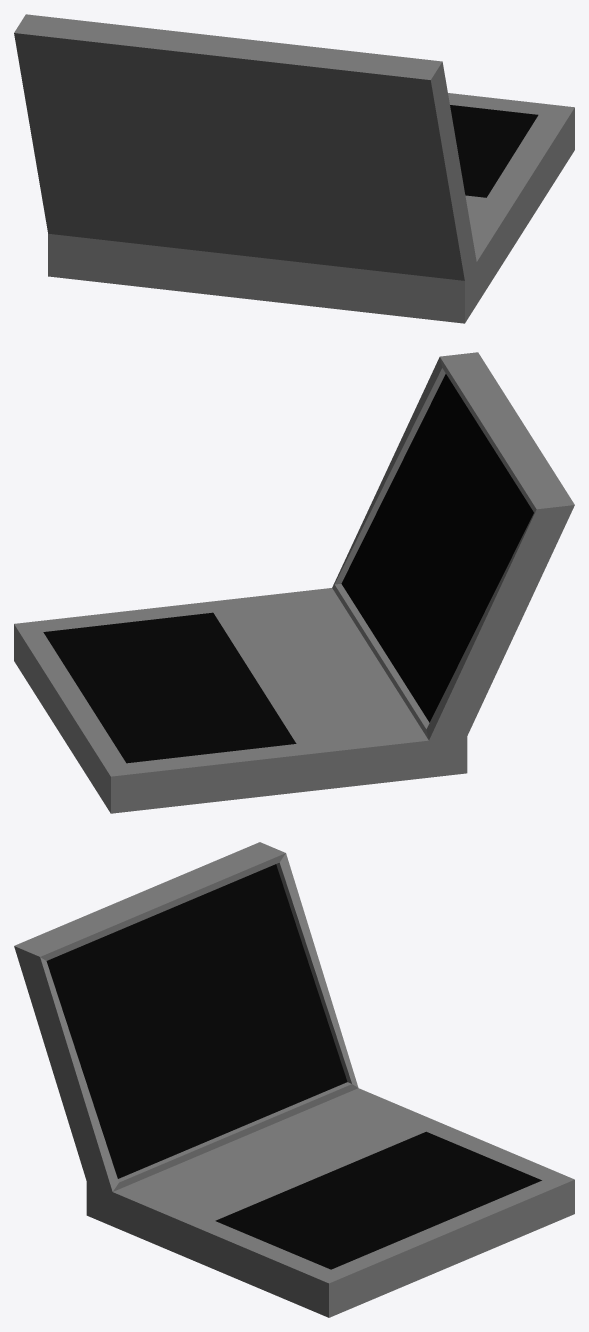
The model's file is Laptop.fbx.
The picture shows the model from 3 angles, top to bottom: view 1: azimuth 30°, elevation 25°; view 2: azimuth 150°, elevation 25°; view 3: azimuth 270°, elevation 25°; orthographic projection. The views are drawn at different scales.
Visible parts, largest first — view 1: Laptop; view 2: Laptop; view 3: Laptop.
Boxes of the visible parts, <box> form: Laptop: <box>14,14,574,323</box>; Laptop: <box>14,352,574,813</box>; Laptop: <box>14,842,574,1317</box>.
Bounding box in the file's own units: 2956 × 1383 × 2950.
